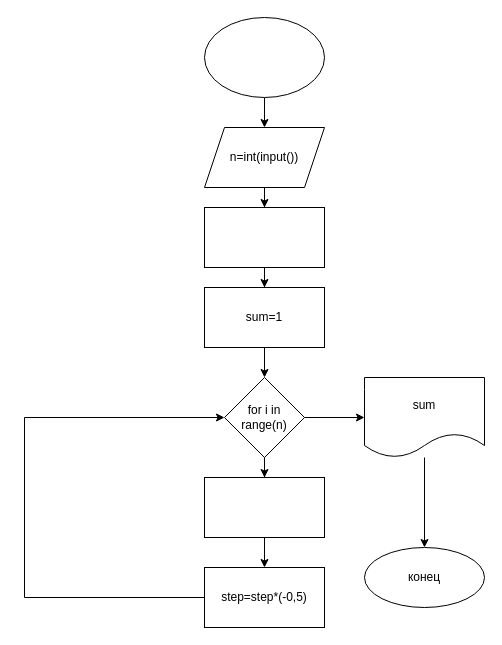
This 502x645 diagram has some shape labels left out. Here are the shapes that lost their labels. From the top down, the centre of each, then its label:
At (x=264, y=57): "начало".
At (x=264, y=237): "step=1".
At (x=264, y=507): "sum=sum+step".
